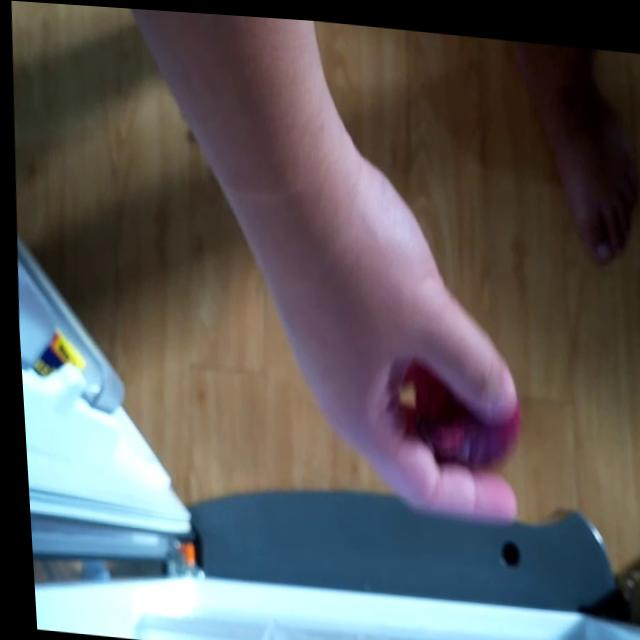onion: (399, 347, 513, 483)
